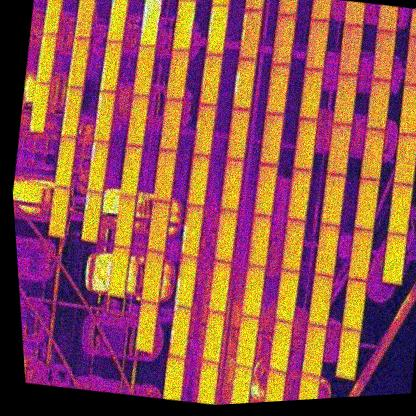Diode: (176, 203, 207, 259), (201, 4, 232, 58), (235, 7, 265, 62), (229, 57, 259, 111), (171, 255, 201, 309), (84, 139, 112, 195), (97, 38, 125, 93), (91, 89, 118, 142), (78, 190, 105, 243), (136, 0, 165, 48), (103, 0, 131, 45)
Hotspot: (189, 102, 220, 158), (164, 305, 195, 360)
Normal: (367, 26, 400, 84), (221, 105, 254, 162), (317, 172, 350, 228), (344, 226, 377, 282), (337, 277, 370, 333), (261, 59, 293, 116), (323, 121, 355, 178), (282, 166, 314, 223), (277, 216, 309, 273), (311, 222, 343, 279), (271, 267, 303, 324), (305, 271, 337, 328), (334, 23, 366, 80), (356, 125, 388, 181), (150, 147, 182, 203), (379, 231, 411, 287), (216, 156, 247, 213), (143, 198, 174, 255), (244, 212, 275, 269), (362, 76, 394, 131), (384, 182, 416, 237), (267, 11, 299, 66), (330, 70, 361, 126), (255, 110, 286, 166), (249, 162, 280, 218), (351, 176, 382, 232), (204, 258, 235, 314), (238, 264, 269, 320), (265, 318, 296, 374), (194, 52, 225, 107), (115, 144, 146, 199), (182, 153, 213, 208), (103, 245, 134, 300), (231, 314, 262, 369), (299, 323, 330, 378), (301, 18, 332, 73), (296, 65, 326, 121), (290, 115, 320, 171), (198, 308, 228, 364), (155, 98, 186, 152), (137, 250, 168, 304), (332, 327, 363, 381), (211, 207, 241, 262), (163, 46, 192, 102), (110, 192, 139, 248), (123, 93, 153, 147), (169, 0, 199, 54), (129, 43, 158, 98), (65, 34, 93, 90), (45, 185, 74, 239), (133, 300, 162, 354), (58, 84, 86, 139), (390, 132, 416, 189), (25, 79, 52, 133), (51, 135, 78, 189), (32, 32, 59, 85), (394, 81, 416, 137), (71, 0, 101, 40), (39, 0, 67, 38), (401, 33, 416, 86)
